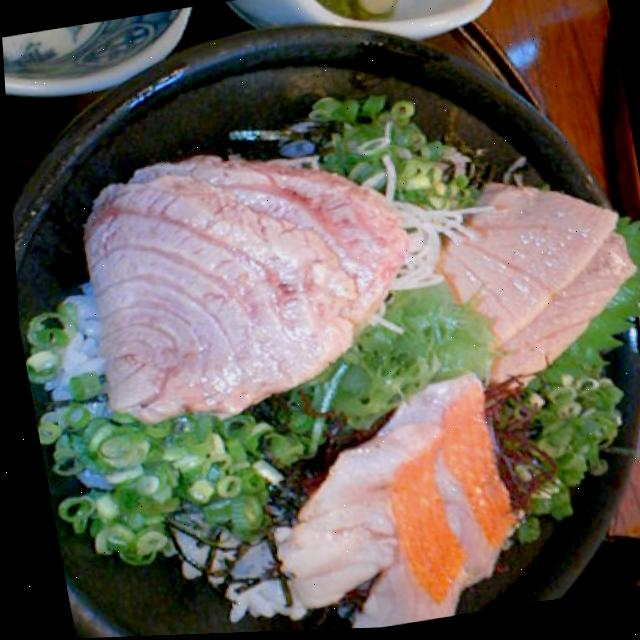刺身生食: (4, 57, 640, 640)
